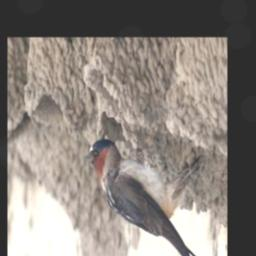Swallow: (82, 136, 204, 256)
